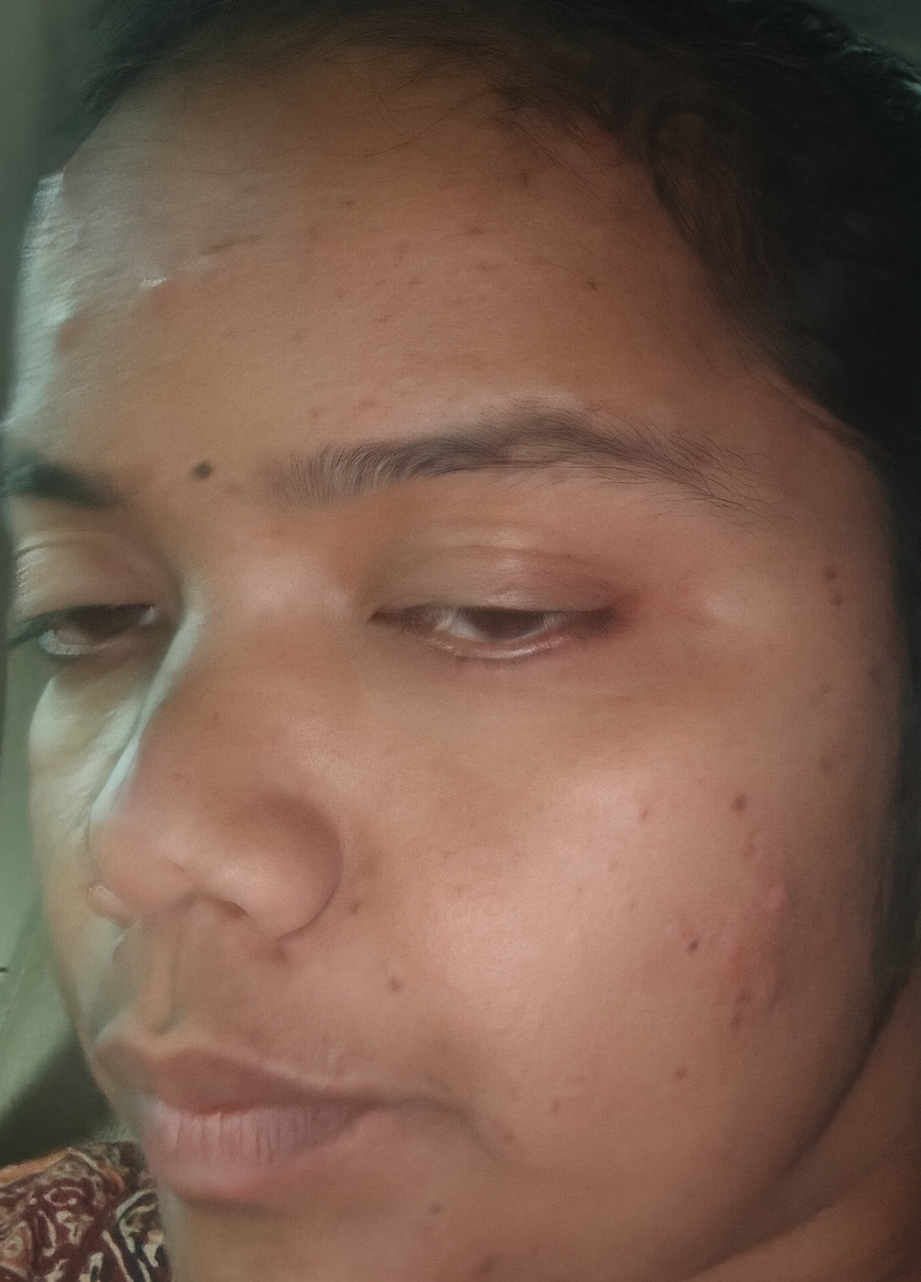papule: (688, 895, 773, 984), (26, 290, 112, 368), (134, 264, 189, 319)
